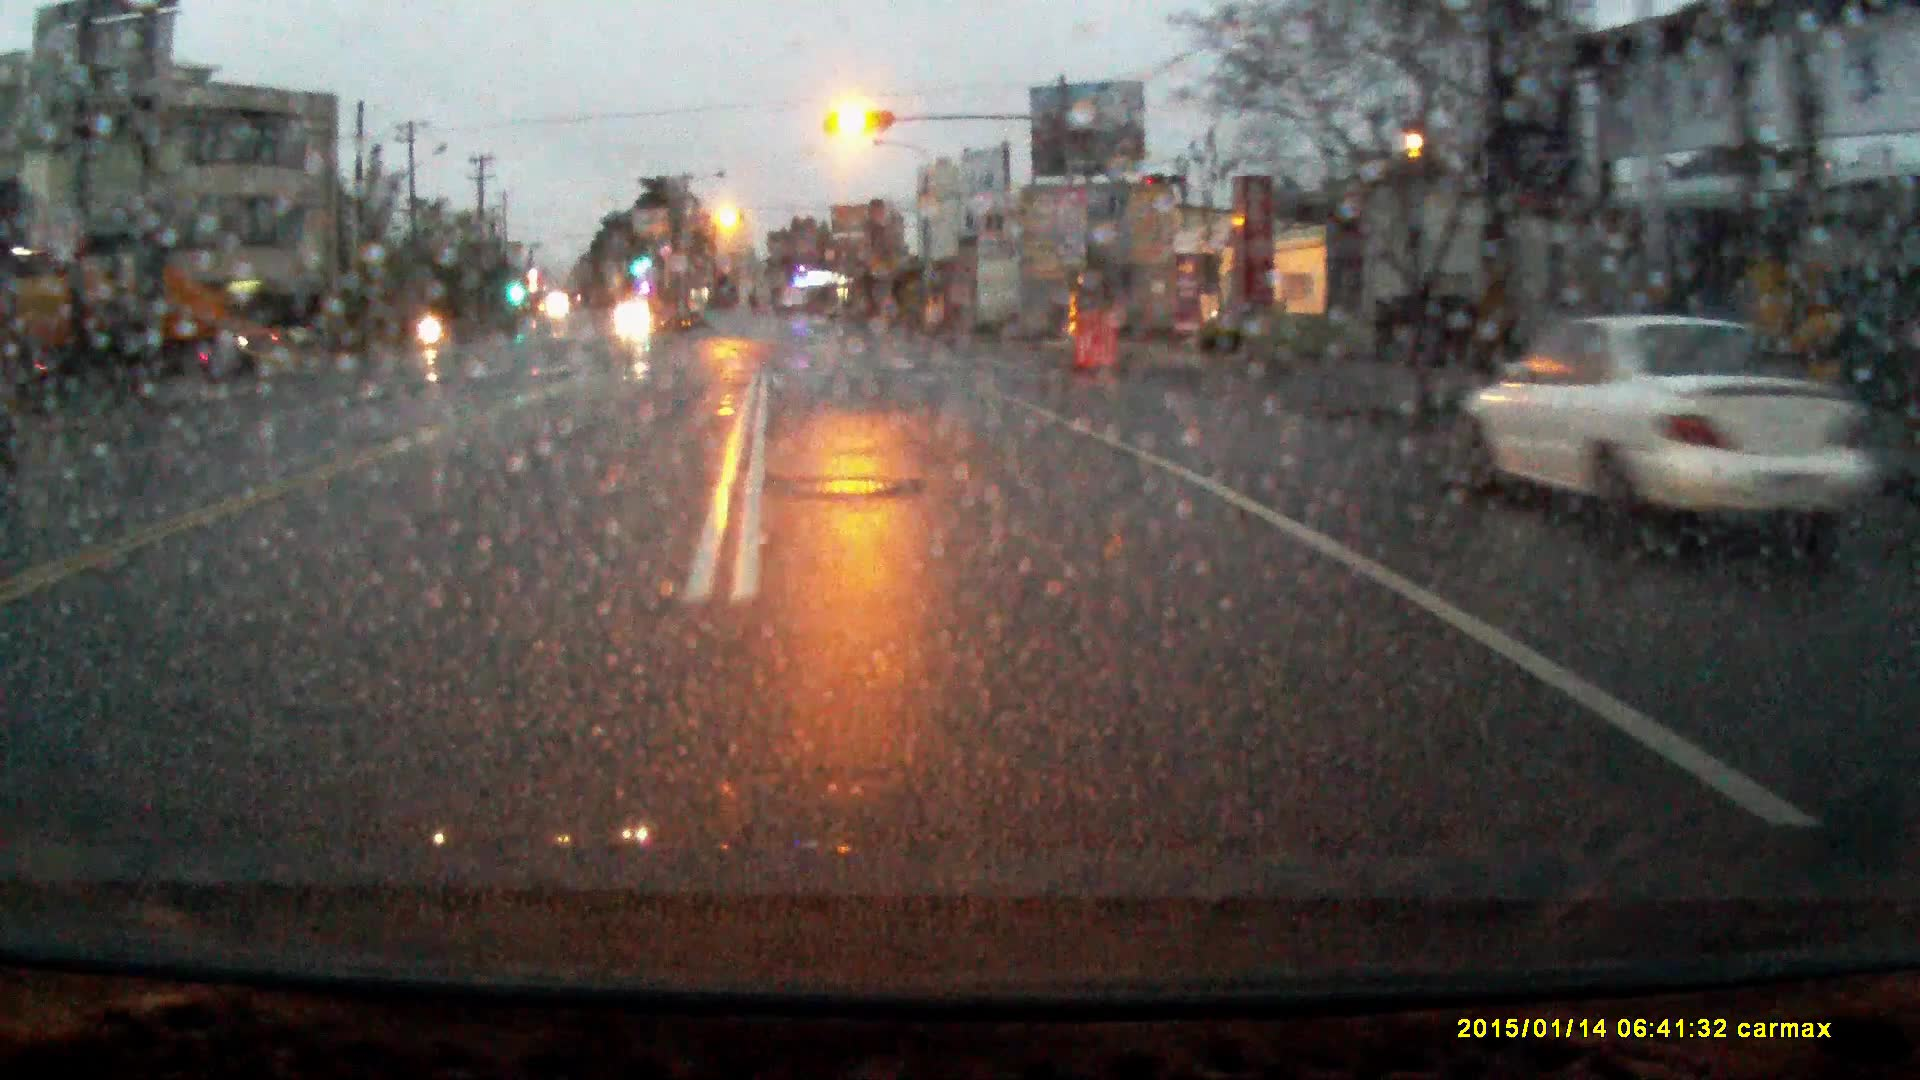rider: (418, 290, 448, 354)
vehicle: (1447, 312, 1871, 542), (1, 258, 246, 385), (615, 298, 653, 331)
